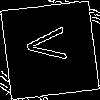V: (25, 24, 77, 64)
